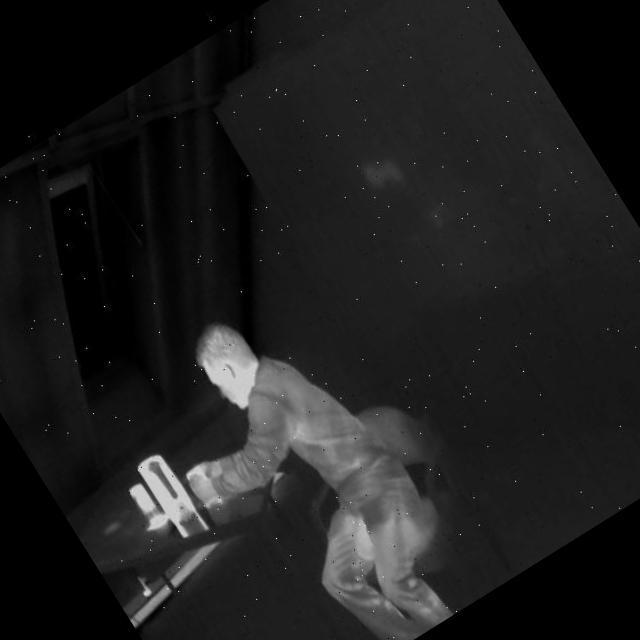person: (116, 249, 514, 640)
